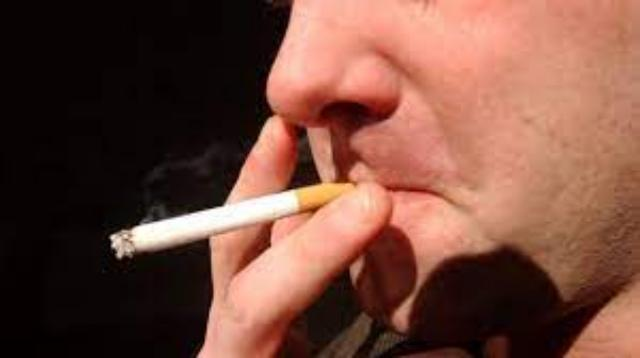Cigarette: (110, 184, 356, 260)
